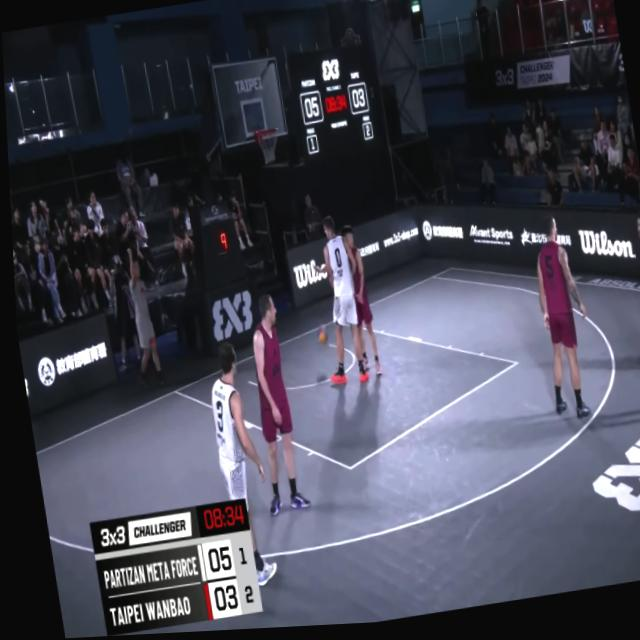ball: (312, 323, 327, 352)
hoop: (251, 126, 281, 167)
player: (195, 338, 276, 595), (235, 295, 306, 522), (522, 220, 596, 434), (301, 218, 366, 396), (327, 225, 377, 389), (620, 217, 640, 426)
